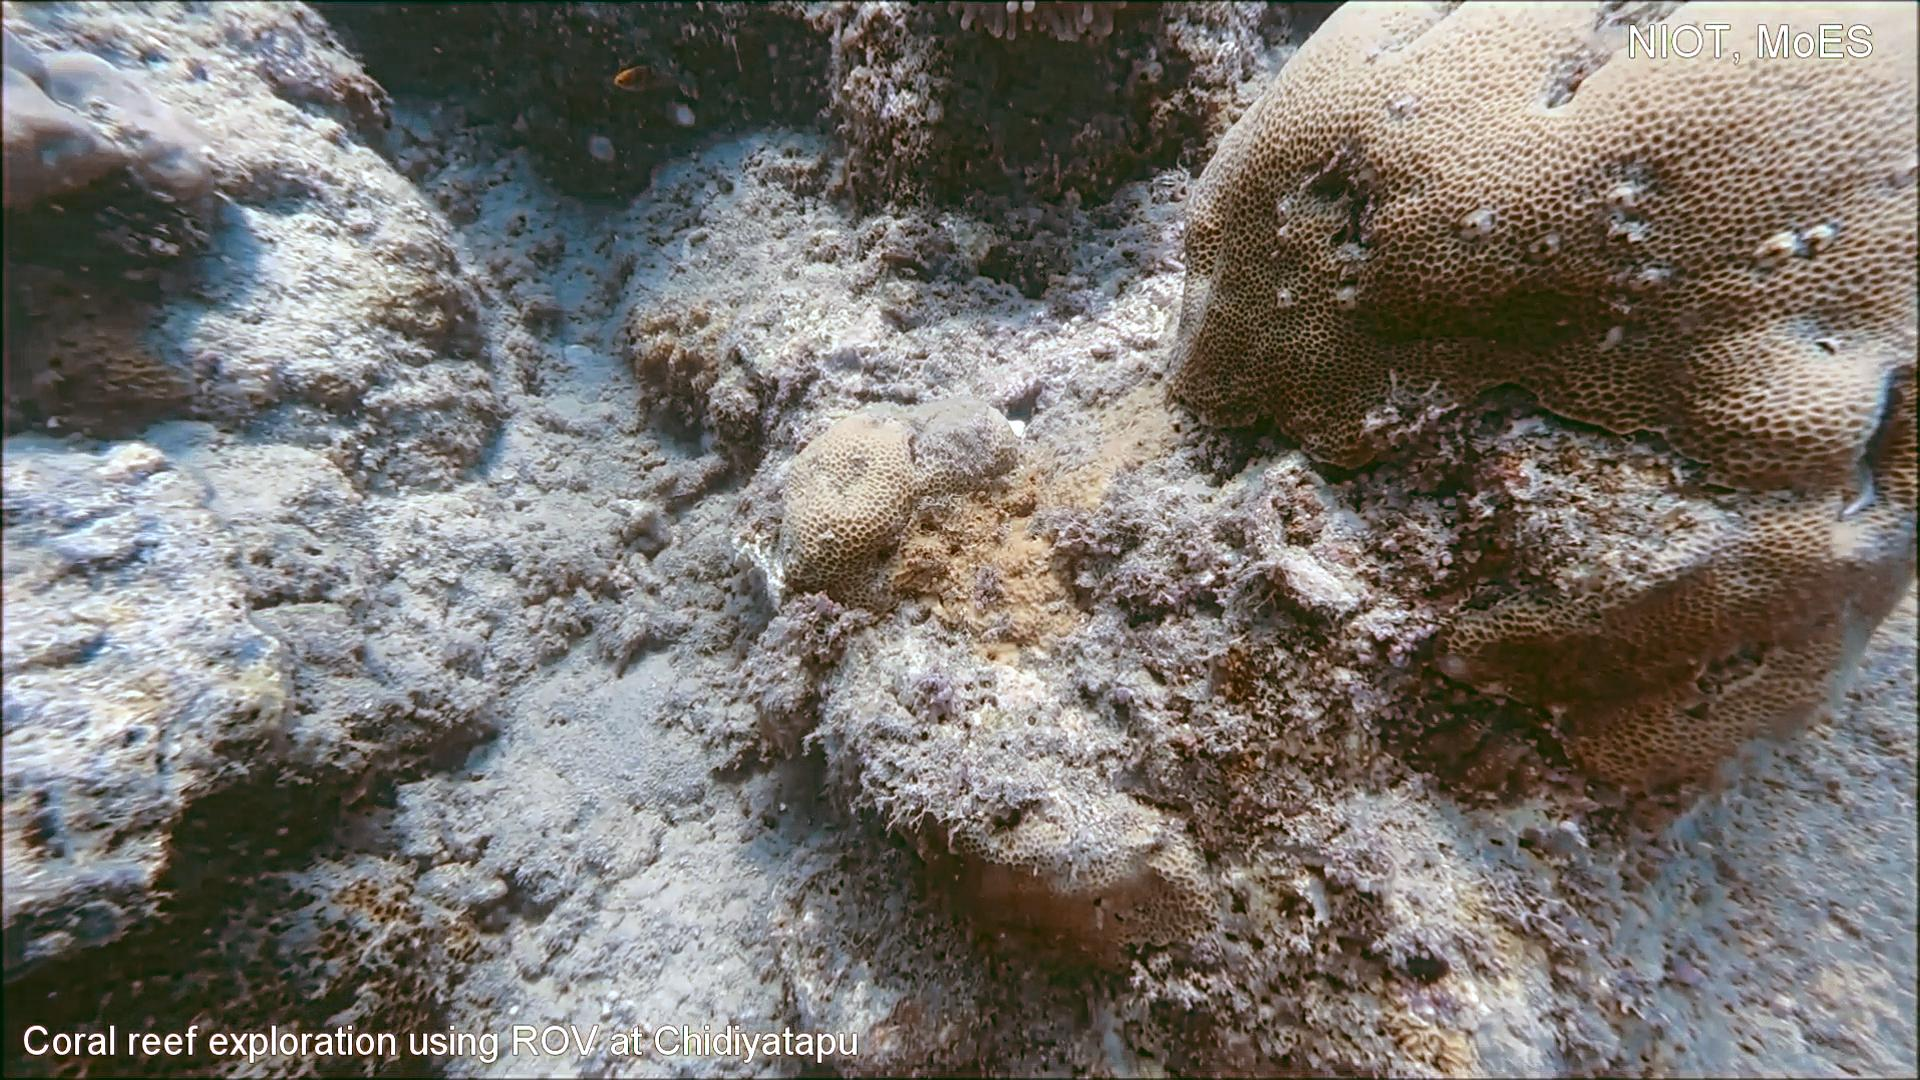Macrodactyla doreensis-Long tentacle Anemone: (913, 0, 1168, 53)
